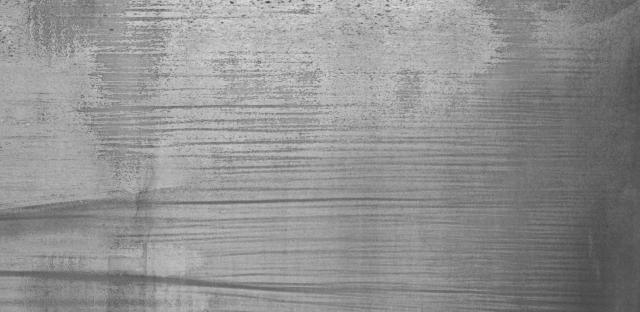waist_folding: (62, 45, 612, 303)
